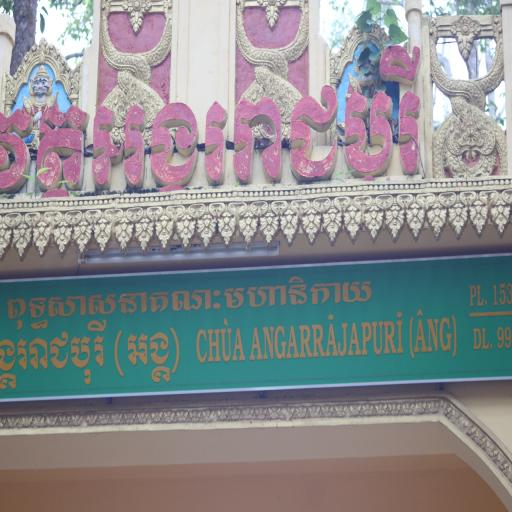hoa: (450, 14, 478, 61)
la: (297, 197, 323, 247), (197, 200, 221, 252), (488, 190, 512, 240), (384, 194, 408, 243), (341, 196, 365, 245), (136, 205, 158, 257), (320, 199, 344, 246), (277, 201, 302, 246), (176, 201, 198, 252), (239, 201, 261, 252), (114, 204, 135, 257), (155, 204, 177, 254), (218, 200, 240, 250), (427, 191, 449, 241), (74, 209, 96, 258), (54, 211, 75, 259), (468, 191, 489, 239), (449, 191, 470, 239), (362, 197, 384, 242), (14, 211, 34, 260), (406, 192, 426, 241), (260, 200, 280, 249), (35, 211, 54, 261), (94, 210, 114, 254), (0, 211, 14, 257)
than: (22, 59, 60, 129), (346, 42, 388, 105)
